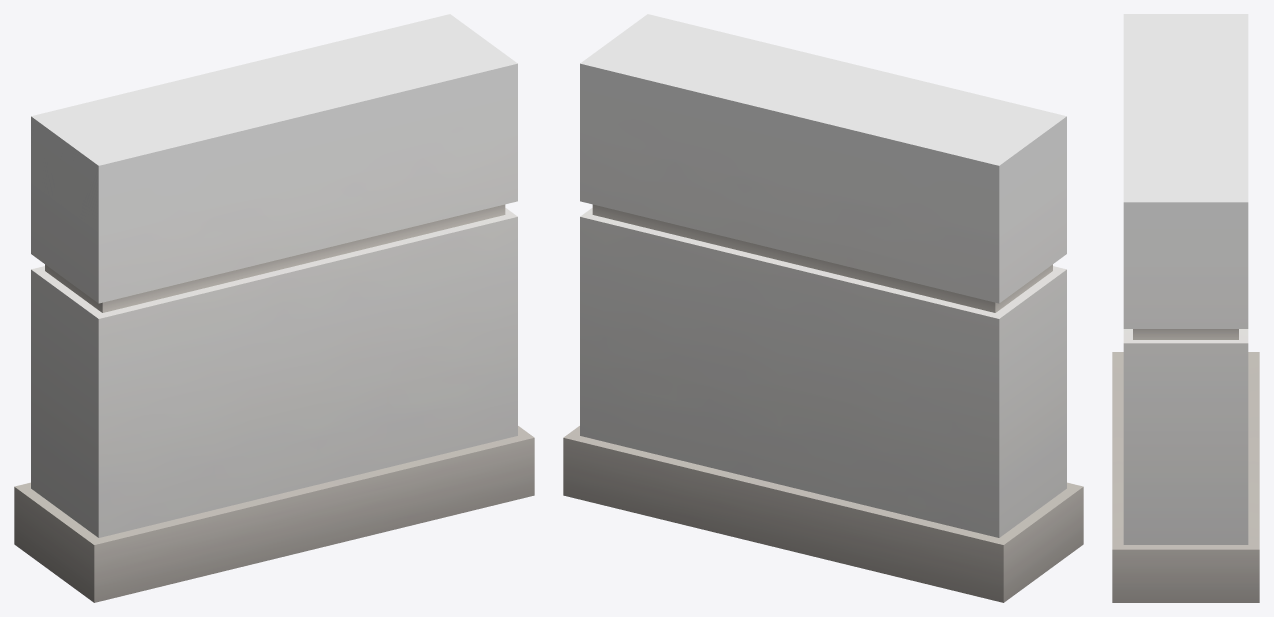
Rendered from Wall_Divider_Short_A.fbx.
3 renders of one model, left to right at view 1: azimuth 30°, elevation 25°; view 2: azimuth 150°, elevation 25°; view 3: azimuth 270°, elevation 25°, orthographic. The views are drawn at different scales.
Visible parts, largest first — view 1: Wall_Divider_Short_A; view 2: Wall_Divider_Short_A; view 3: Wall_Divider_Short_A.
Boxes of the visible parts, x1,y1,x2,y2 form: Wall_Divider_Short_A: (14, 14, 534, 602); Wall_Divider_Short_A: (563, 14, 1083, 602); Wall_Divider_Short_A: (1112, 14, 1259, 602).
Size of the model in its own units: 150 by 140 by 47.22.
